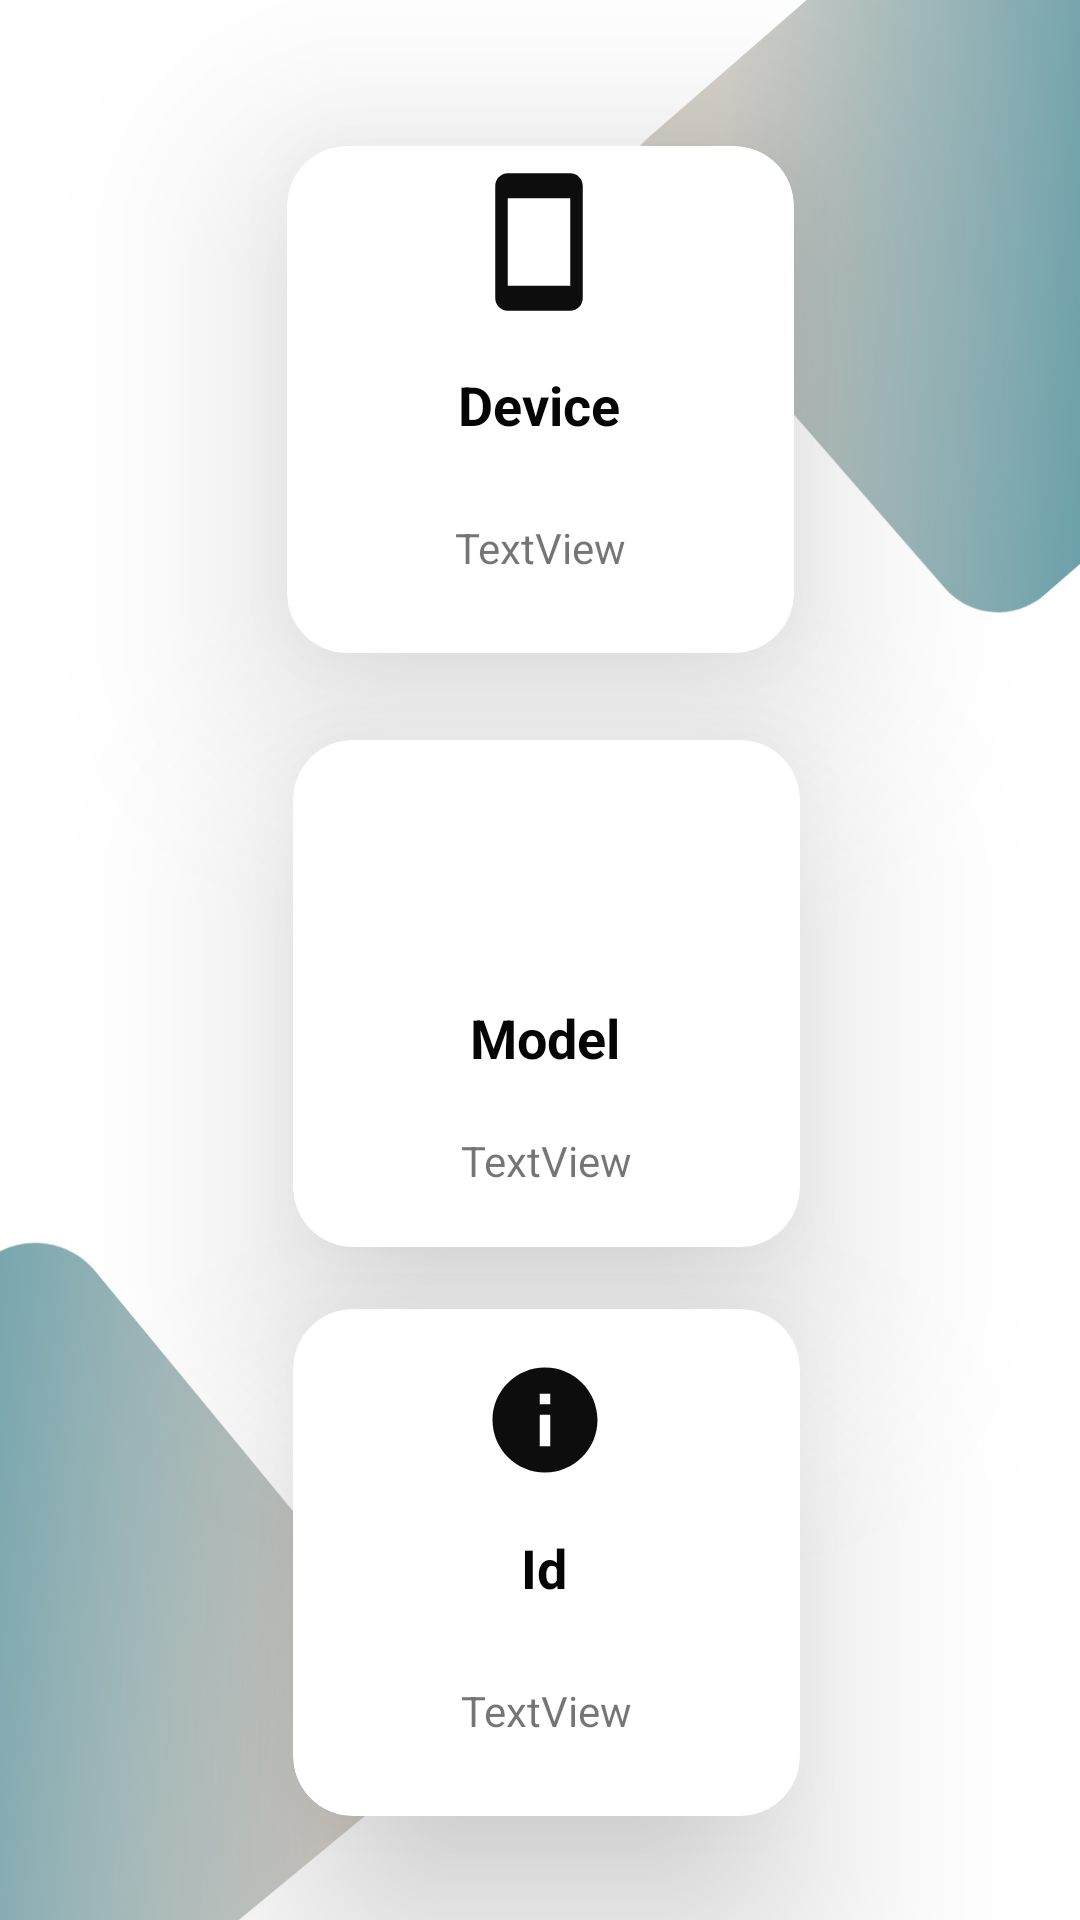

Where icons sit on this 1080w x 1920h app screen, as (x1, y1, x2, y2):
info: (492, 1367, 598, 1473)
smartphone: (495, 173, 583, 311)
